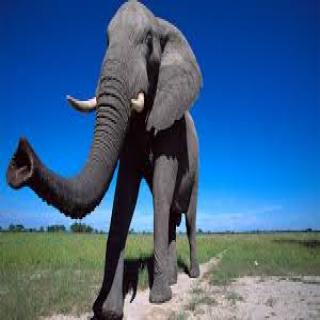Elephant: (4, 0, 208, 320)
